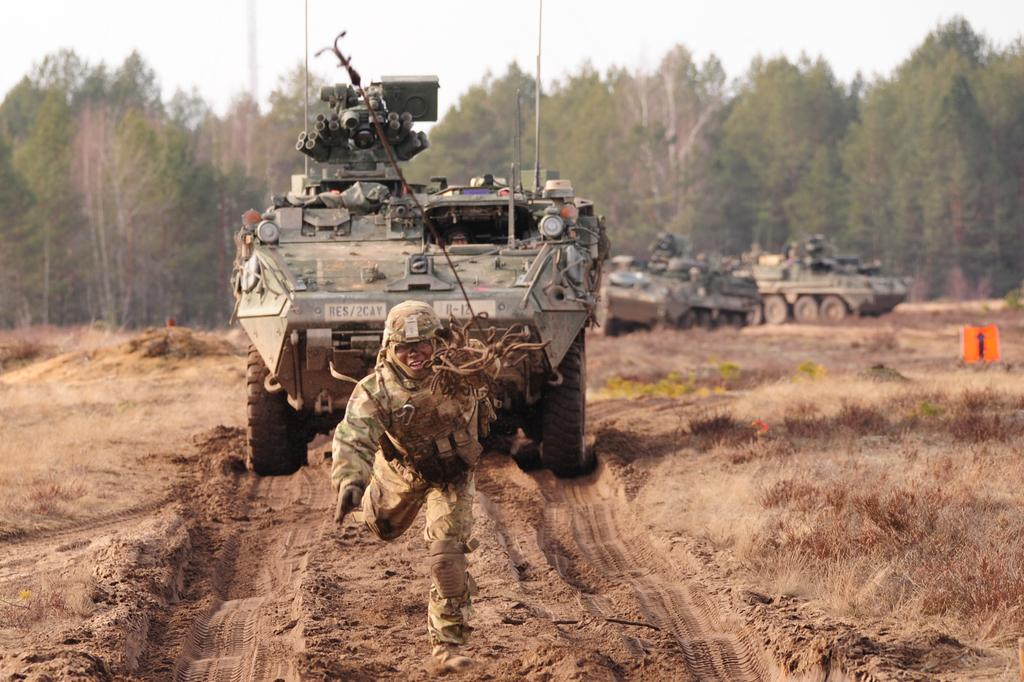Tank: (228, 0, 612, 474), (600, 229, 750, 338), (742, 232, 913, 324)
